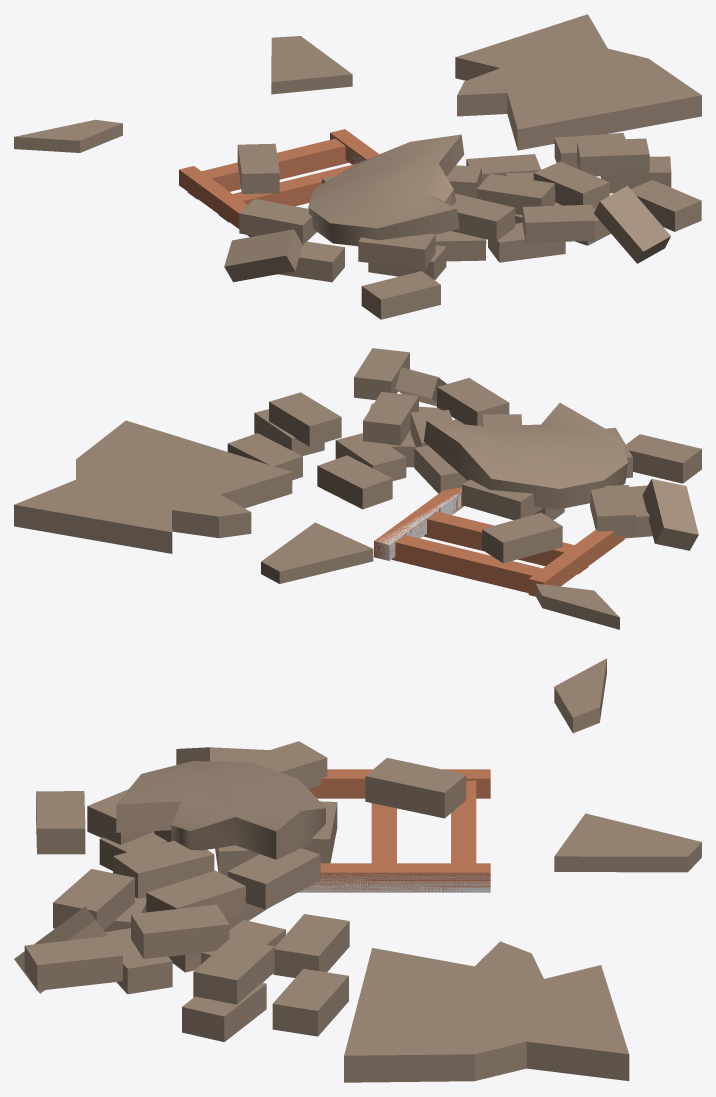
File: ruinsSmall.fbx
The picture shows the model from 3 angles, top to bottom: view 1: azimuth 30°, elevation 25°; view 2: azimuth 150°, elevation 25°; view 3: azimuth 270°, elevation 25°; orthographic projection. The views are drawn at different scales.
Visible parts, largest first — view 1: Cube.063, Cube.034; view 2: Cube.063, Cube.034, Cube.079; view 3: Cube.063, Cube.034, Cube.079.
Part boxes in pixels (box(x1,y1,x2,y2)): Cube.063: box(14, 14, 701, 319); Cube.034: box(179, 129, 378, 236); Cube.063: box(14, 348, 701, 629); Cube.034: box(374, 487, 624, 596); Cube.079: box(375, 491, 462, 560); Cube.063: box(14, 658, 701, 1082); Cube.034: box(301, 769, 490, 892); Cube.079: box(298, 873, 490, 892).
Size of the model in its own units: 1682 by 215 by 1342.
1 material, 1 textured.
